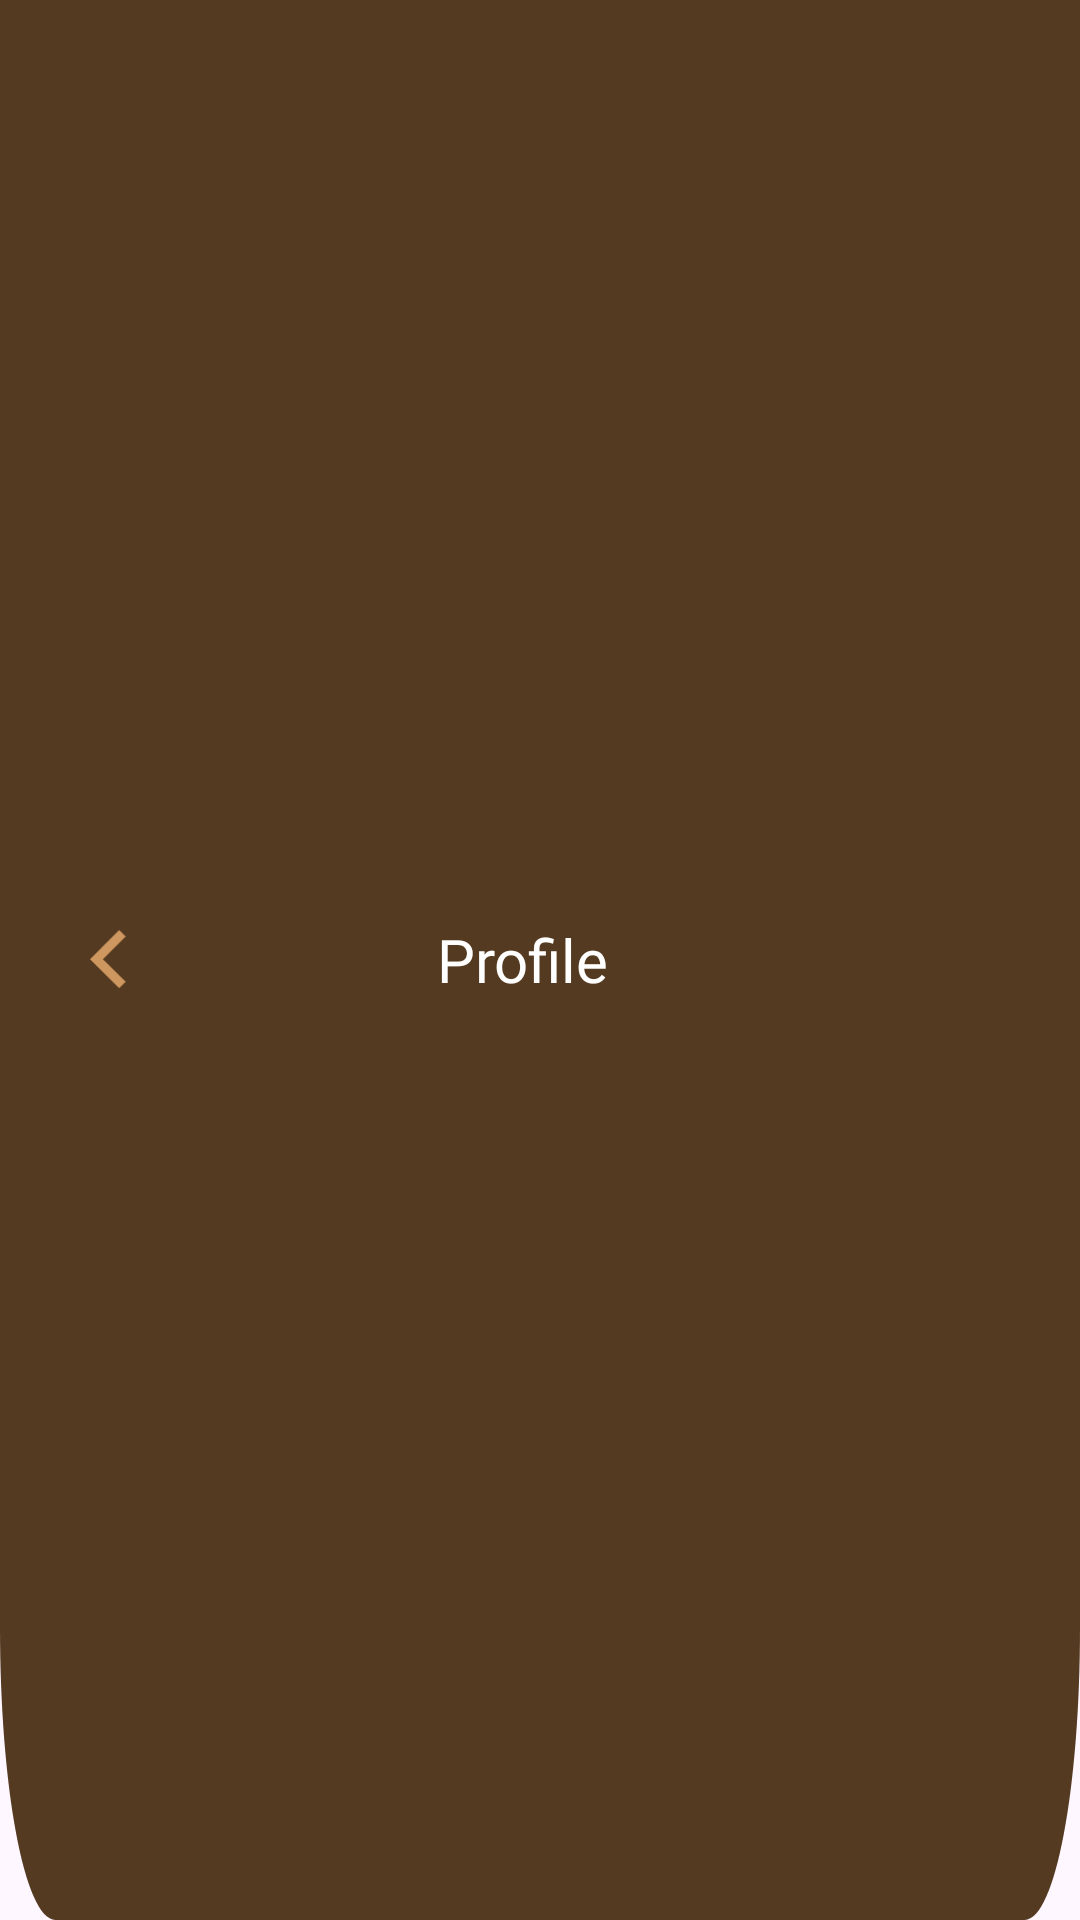

Icons on this 1080x1920 Android screen, each with its box as (x1, y1, x2, y2):
back: (90, 930, 126, 988)
